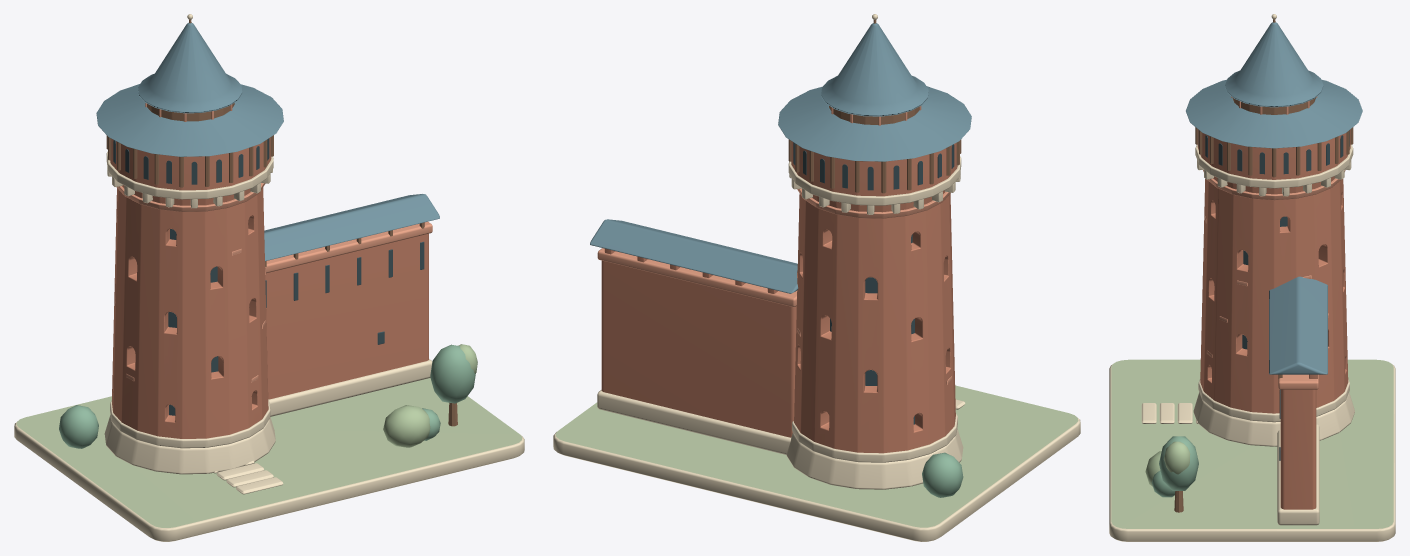
The model's file is marinkina-tower.glb.
3 views of the same model, side by side, from view 1: azimuth 30°, elevation 25°; view 2: azimuth 150°, elevation 25°; view 3: azimuth 270°, elevation 25° (orthographic). The views are drawn at different scales.
Parts seen in each view (by area): view 1: Marinkina tower · soft low-poly; view 2: Marinkina tower · soft low-poly; view 3: Marinkina tower · soft low-poly.
Part boxes in pixels (bbox=[...]): Marinkina tower · soft low-poly: bbox=[14, 14, 524, 541]; Marinkina tower · soft low-poly: bbox=[553, 14, 1080, 541]; Marinkina tower · soft low-poly: bbox=[1109, 14, 1395, 541].
Size of the model in its own units: 6.5 by 7.31 by 4.6.
